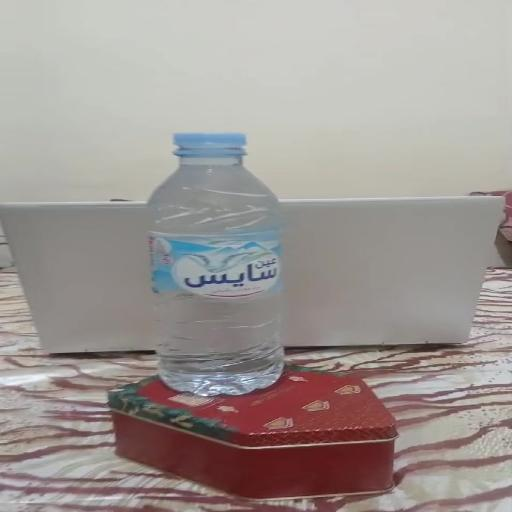bouteille non conformite: (111, 130, 335, 406)
